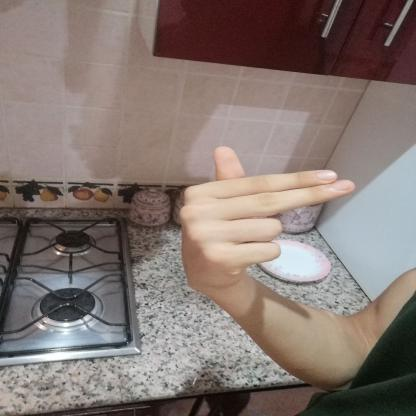GHAYN: (154, 135, 370, 301)
